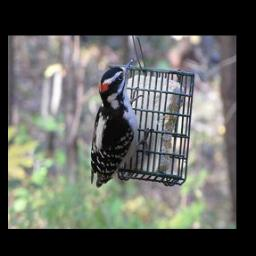Woodpecker: (90, 57, 153, 188)
